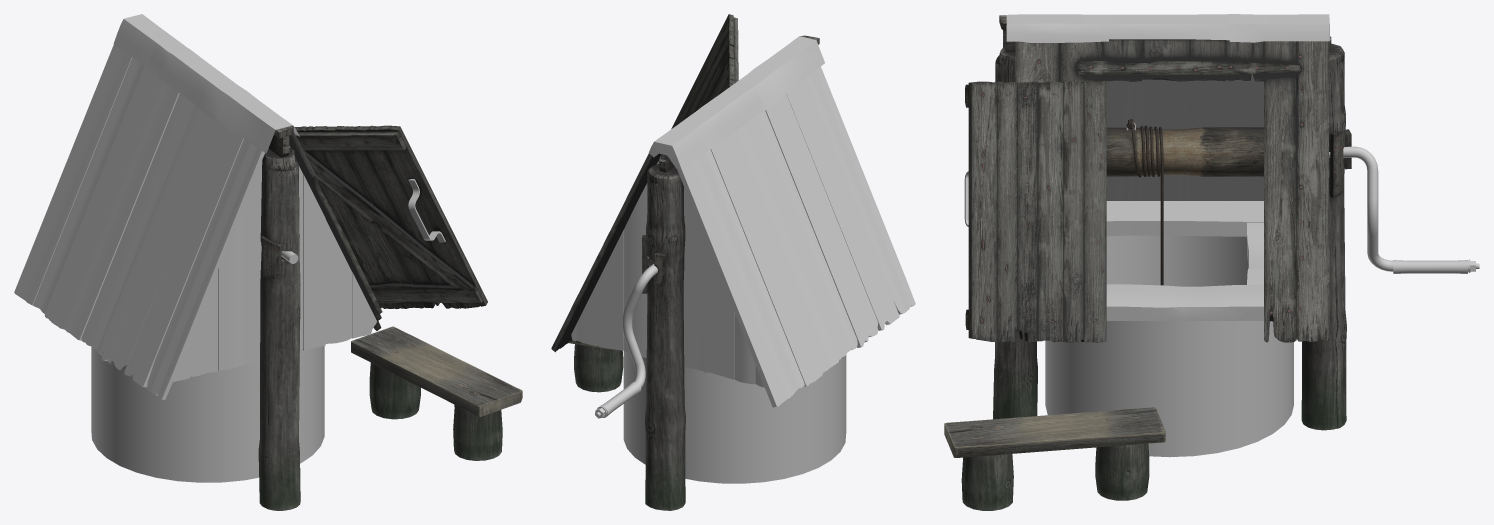
3 renders of one model, left to right at view 1: azimuth 30°, elevation 25°; view 2: azimuth 150°, elevation 25°; view 3: azimuth 270°, elevation 25°, orthographic. The views are drawn at different scales.
Visible parts, largest first — view 1: ConcreteRing_low.001, LogSupportLeft_low.001, TinPlate_low.002, PlankInlcineRear6_low.002, PlankInlcineRear5_low.002, PlankInlcineRear8_low.002, Bench_low.001, PlankInlcineRear7_low.002, PlankInlcineRear1_low.002, PlankInlcineRear4_low.002, PlankInlcineRear3_low.002, PlankInlcineRear2_low.002 (+20 smaller); view 2: ConcreteRing_low.001, LogSupportRight_low.002, TinPlate_low.002, PlankInlcineRear6_low.002, PlankInlcineRear1_low.002, PlankInlcineRear5_low.002, PlankInlcineRear7_low.002, PlankInlcineRear3_low.002, PlankInlcineRear8_low.002, PlankInlcineRear4_low.002, PlankRight5_low.002, PlankInlcineRear2_low.002 (+12 smaller); view 3: ConcreteRing_low.001, PlankInlcineFront8_low.002, PlankInlcineFront7_low.002, TinPlate_low.002, LogSupportRight_low.002, Bench_low.001, DoorPlank6_low.002, LogRotating_low.002, DoorPlank3_low.002, DoorPlank1_low.002, PlankSupportFront_low.002, DoorPlank2_low.002 (+22 smaller).
Part boxes in pixels (bbox=[...]): ConcreteRing_low.001: bbox=[91, 346, 324, 482]; LogSupportLeft_low.001: bbox=[258, 147, 300, 510]; TinPlate_low.002: bbox=[113, 14, 299, 153]; PlankInlcineRear6_low.002: bbox=[101, 110, 222, 371]; PlankInlcineRear5_low.002: bbox=[81, 93, 200, 355]; PlankInlcineRear8_low.002: bbox=[147, 138, 264, 399]; Bench_low.001: bbox=[351, 326, 522, 416]; PlankInlcineRear7_low.002: bbox=[124, 125, 243, 387]; PlankInlcineRear1_low.002: bbox=[14, 44, 132, 305]; PlankInlcineRear4_low.002: bbox=[62, 81, 179, 340]; PlankInlcineRear3_low.002: bbox=[44, 67, 161, 329]; PlankInlcineRear2_low.002: bbox=[33, 57, 143, 313]; ConcreteRing_low.001: bbox=[623, 351, 846, 483]; LogSupportRight_low.002: bbox=[645, 164, 685, 510]; TinPlate_low.002: bbox=[649, 36, 824, 169]; PlankInlcineRear6_low.002: bbox=[765, 94, 877, 347]; PlankInlcineRear1_low.002: bbox=[677, 157, 793, 407]; PlankInlcineRear5_low.002: bbox=[744, 110, 857, 359]; PlankInlcineRear7_low.002: bbox=[786, 79, 899, 330]; PlankInlcineRear3_low.002: bbox=[710, 137, 822, 386]; PlankInlcineRear8_low.002: bbox=[805, 66, 915, 314]; PlankInlcineRear4_low.002: bbox=[728, 125, 838, 372]; PlankRight5_low.002: bbox=[683, 187, 708, 372]; PlankInlcineRear2_low.002: bbox=[699, 149, 804, 393]; ConcreteRing_low.001: bbox=[1045, 235, 1293, 457]; PlankInlcineFront8_low.002: bbox=[1296, 41, 1329, 341]; PlankInlcineFront7_low.002: bbox=[1264, 41, 1296, 342]; TinPlate_low.002: bbox=[1006, 14, 1330, 42]; LogSupportRight_low.002: bbox=[1301, 43, 1346, 430]; Bench_low.001: bbox=[944, 407, 1165, 457]; DoorPlank6_low.002: bbox=[968, 81, 997, 341]; LogRotating_low.002: bbox=[1106, 127, 1263, 176]; DoorPlank3_low.002: bbox=[1037, 81, 1063, 341]; DoorPlank1_low.002: bbox=[1081, 81, 1106, 342]; PlankSupportFront_low.002: bbox=[1106, 284, 1263, 320]; DoorPlank2_low.002: bbox=[1061, 81, 1083, 342].
Size of the model in its own units: 1.91 by 2.06 by 2.49.
